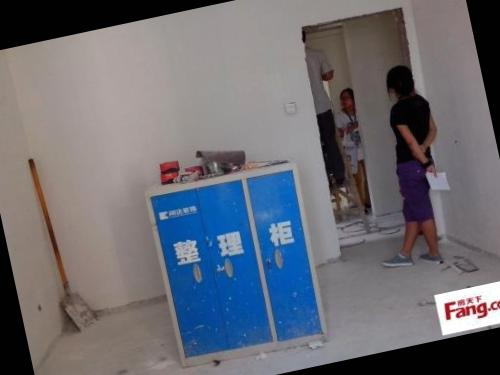no_helmet: (382, 58, 425, 105), (334, 82, 358, 114)
